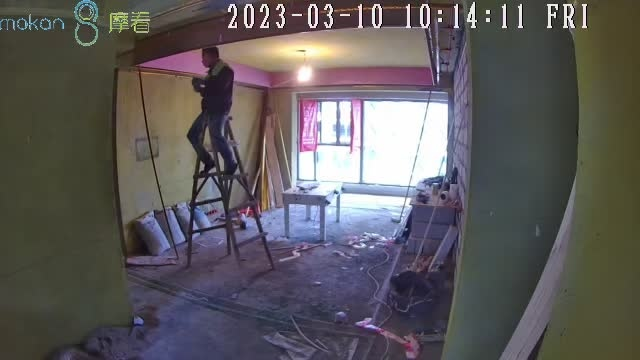people: (187, 47, 238, 177)
window: (299, 98, 447, 184)
